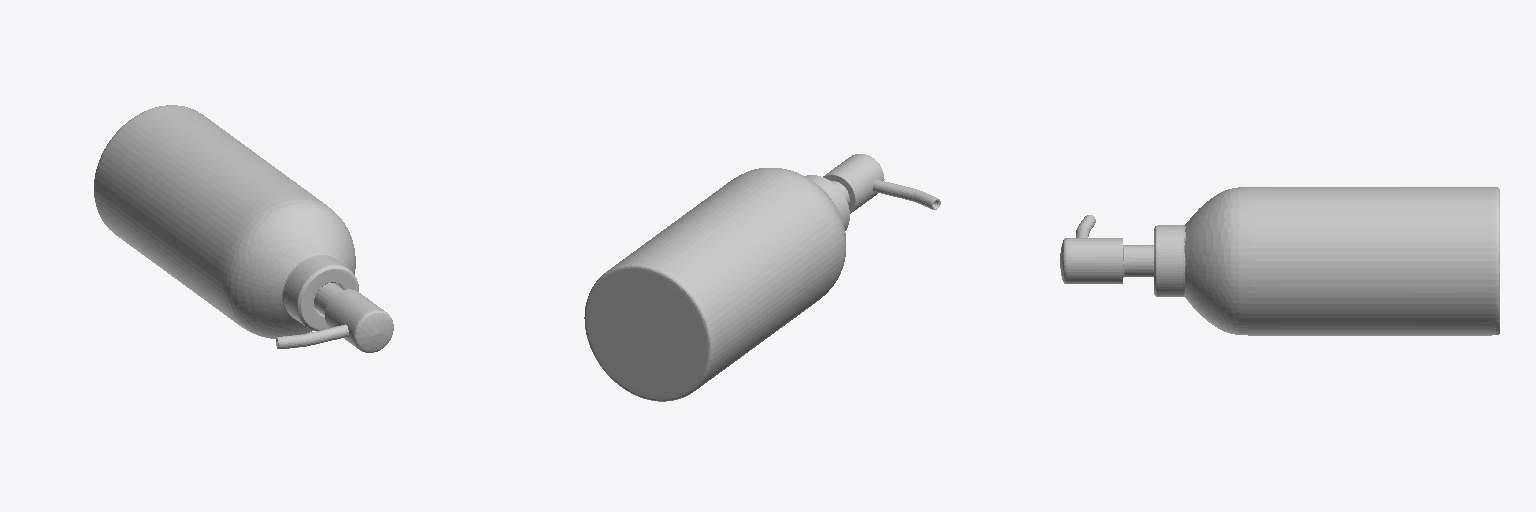
Rendered from Soap.obj.
3 views of the same model, side by side, from view 1: azimuth 30°, elevation 25°; view 2: azimuth 150°, elevation 25°; view 3: azimuth 270°, elevation 25° (orthographic).
Parts seen in each view (by area): view 1: 10297_Metal_soap_dispenser_v2_max2011_it2; view 2: 10297_Metal_soap_dispenser_v2_max2011_it2; view 3: 10297_Metal_soap_dispenser_v2_max2011_it2.
Boxes of the visible parts, x1=… form: 10297_Metal_soap_dispenser_v2_max2011_it2: x1=94, y1=105, x2=393, y2=352; 10297_Metal_soap_dispenser_v2_max2011_it2: x1=584, y1=154, x2=940, y2=401; 10297_Metal_soap_dispenser_v2_max2011_it2: x1=1060, y1=187, x2=1499, y2=335.
Bounding box in the file's own units: 6.96 × 5.97 × 17.69.